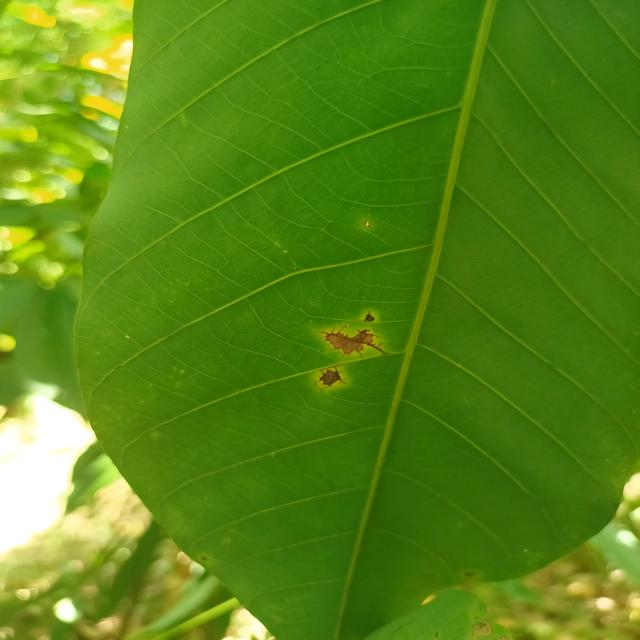Corynespora: (314, 324, 390, 361), (310, 364, 350, 392), (354, 310, 374, 322)
